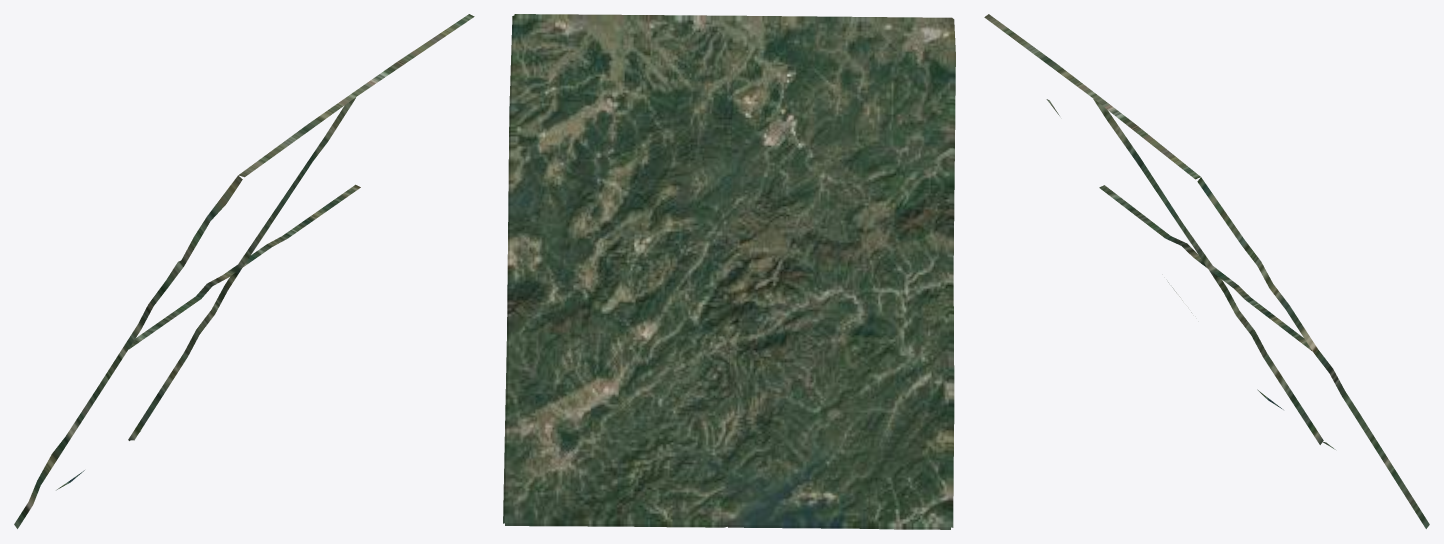
The picture shows the model from 3 angles, left to right: view 1: azimuth 30°, elevation 25°; view 2: azimuth 150°, elevation 25°; view 3: azimuth 270°, elevation 25°; orthographic projection.
Size of the model in its own units: 158284 by 137198 by 136788.
1 material, 1 textured.
